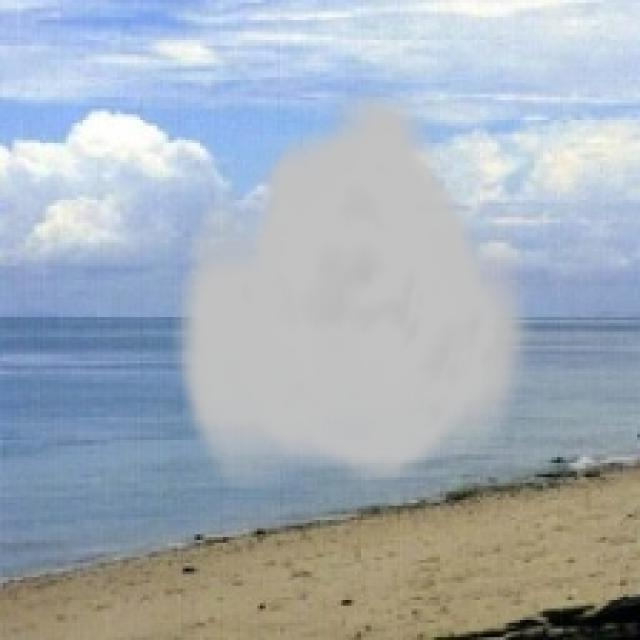smoke: (171, 86, 540, 488)
